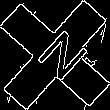N_SW: (23, 23, 87, 87)
